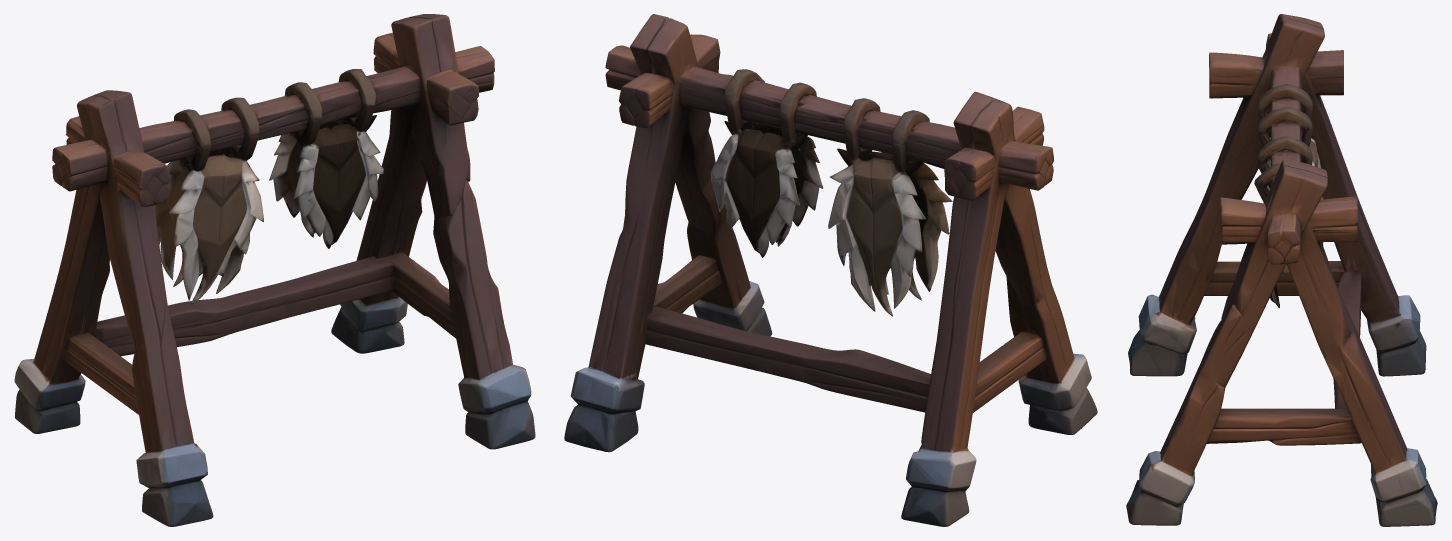
File: rack.opt.glb
The picture shows the model from 3 angles, left to right: view 1: azimuth 30°, elevation 25°; view 2: azimuth 150°, elevation 25°; view 3: azimuth 270°, elevation 25°; orthographic projection. The views are drawn at different scales.
Parts seen in each view (by area): view 1: node_0; view 2: node_0; view 3: node_0.
Part boxes in pixels (left/top/right/bottom): node_0: left=14, top=14, right=535, bottom=526; node_0: left=564, top=14, right=1097, bottom=526; node_0: left=1126, top=14, right=1437, bottom=526.
Size of the model in its own units: 0.8892 by 0.7374 by 0.5898.
1 material, 1 textured.
